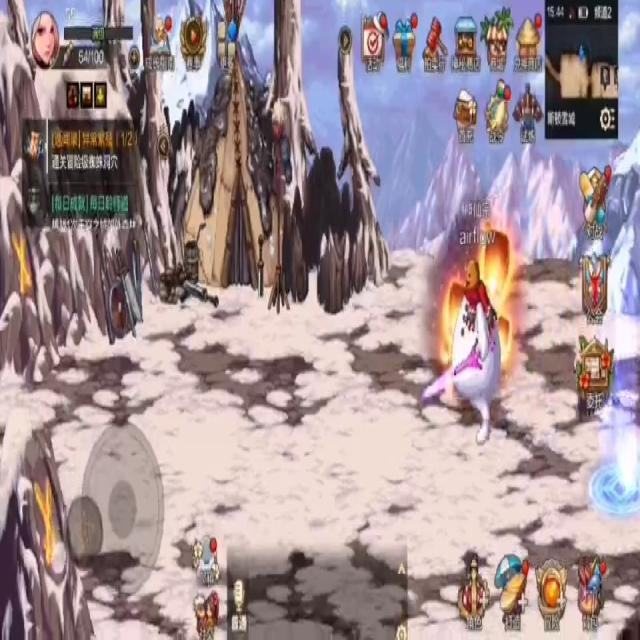player: (452, 258, 507, 449)
